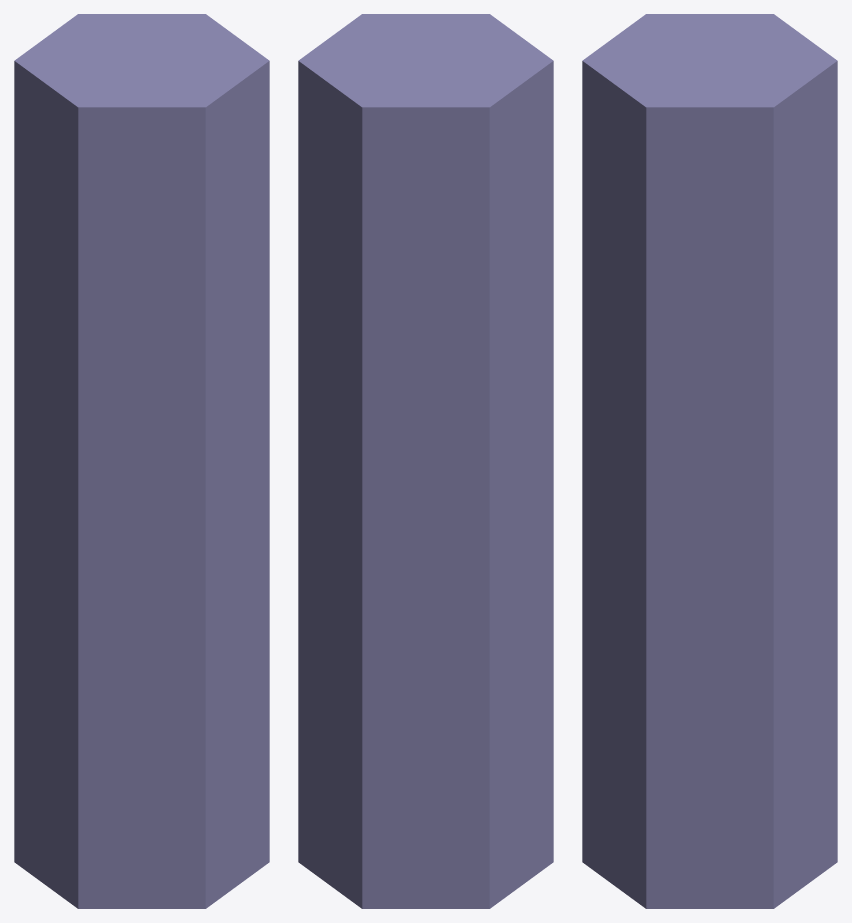
The model's file is hex_pillar.glb.
The picture shows the model from 3 angles, left to right: view 1: azimuth 30°, elevation 25°; view 2: azimuth 150°, elevation 25°; view 3: azimuth 270°, elevation 25°; orthographic projection.
Parts seen in each view (by area): view 1: mergedBlocks(Clone); view 2: mergedBlocks(Clone); view 3: mergedBlocks(Clone).
Part boxes in pixels (box(x1,y1,x2,y2)): mergedBlocks(Clone): box(14, 14, 269, 908); mergedBlocks(Clone): box(298, 14, 553, 908); mergedBlocks(Clone): box(582, 14, 837, 908).
Bounding box in the file's own units: 1 × 4 × 1.15.
